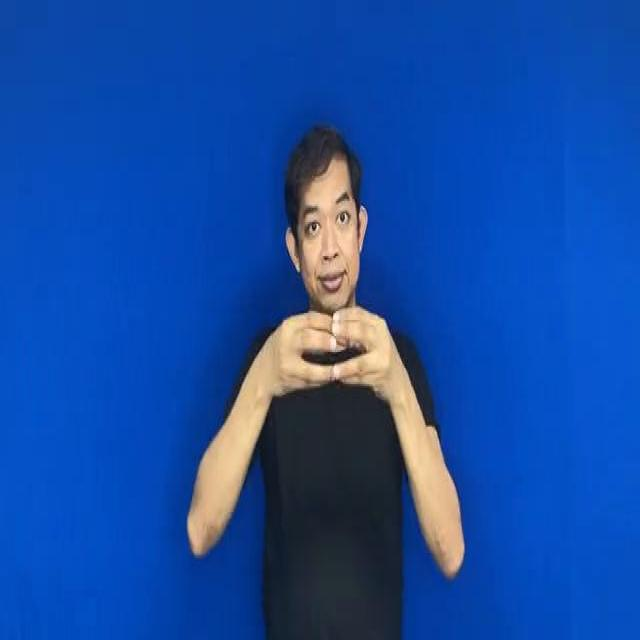egg: (253, 290, 407, 414)
